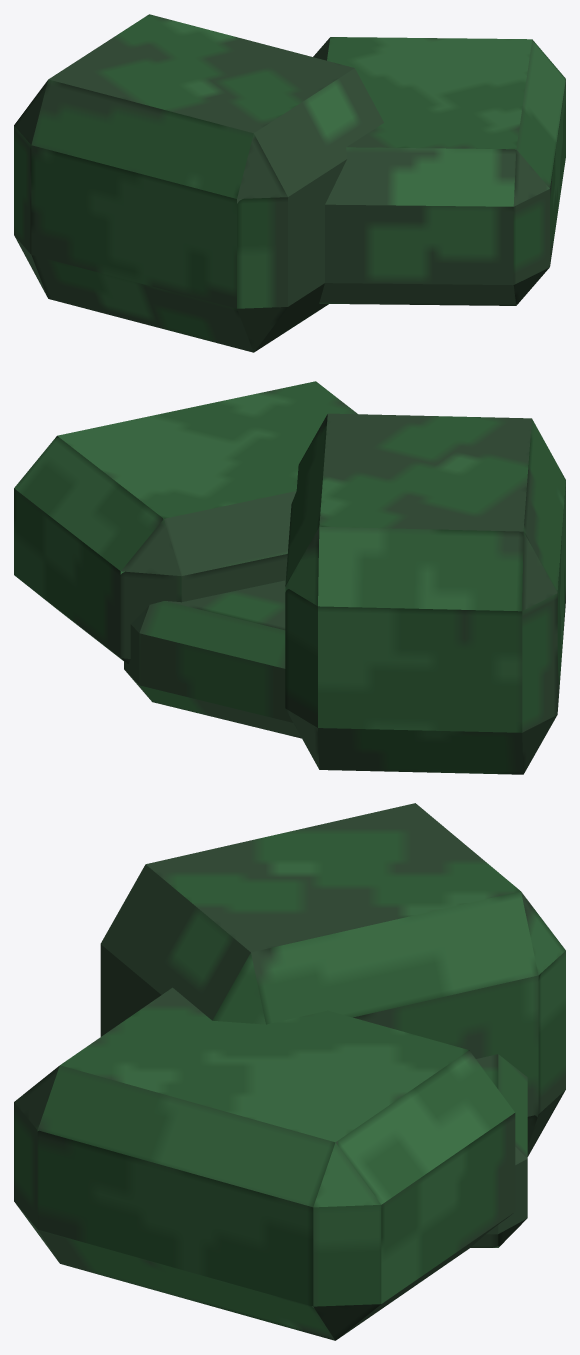
File: bush1.fbx
The picture shows the model from 3 angles, top to bottom: view 1: azimuth 30°, elevation 25°; view 2: azimuth 150°, elevation 25°; view 3: azimuth 270°, elevation 25°; orthographic projection. The views are drawn at different scales.
Visible parts, largest first — view 1: beveled_cuboid, beveled_cuboid_1; view 2: beveled_cuboid, beveled_cuboid_1, beveled_cuboid_2; view 3: beveled_cuboid_1, beveled_cuboid, beveled_cuboid_2.
Boxes of the visible parts, x1,y1,x2,y2 form: beveled_cuboid: [14, 14, 383, 352]; beveled_cuboid_1: [313, 37, 565, 305]; beveled_cuboid: [285, 413, 565, 774]; beveled_cuboid_1: [14, 381, 357, 663]; beveled_cuboid_2: [124, 580, 301, 738]; beveled_cuboid_1: [14, 987, 515, 1340]; beveled_cuboid: [100, 803, 565, 1156]; beveled_cuboid_2: [335, 1054, 527, 1247].
Bounding box in the file's own units: 314 × 131 × 236.
1 material, 1 textured.
